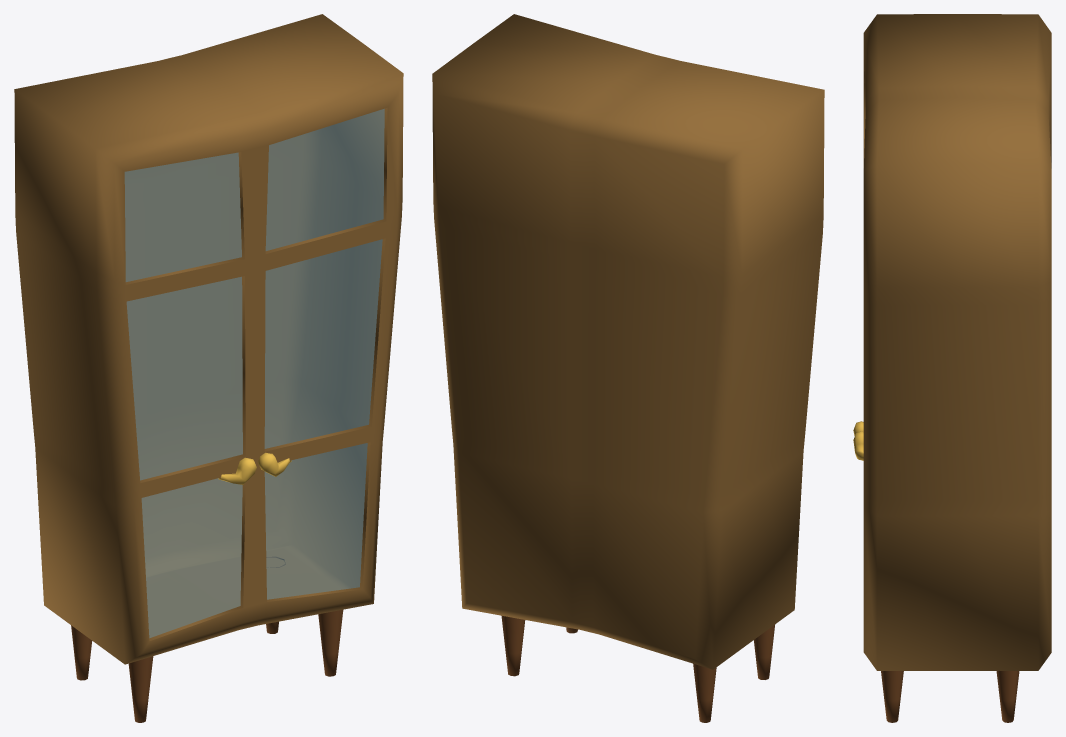
The model's file is props_grande_armoire_vertical.fbx.
3 views of the same model, side by side, from view 1: azimuth 30°, elevation 25°; view 2: azimuth 150°, elevation 25°; view 3: azimuth 270°, elevation 25° (orthographic).
Parts seen in each view (by area): view 1: Cube.005; view 2: Cube.005; view 3: Cube.005.
Part boxes in pixels (bbox=[...]): Cube.005: bbox=[14, 14, 403, 722]; Cube.005: bbox=[432, 14, 824, 722]; Cube.005: bbox=[853, 14, 1051, 722].
Size of the model in its own units: 276 by 506 by 155.
